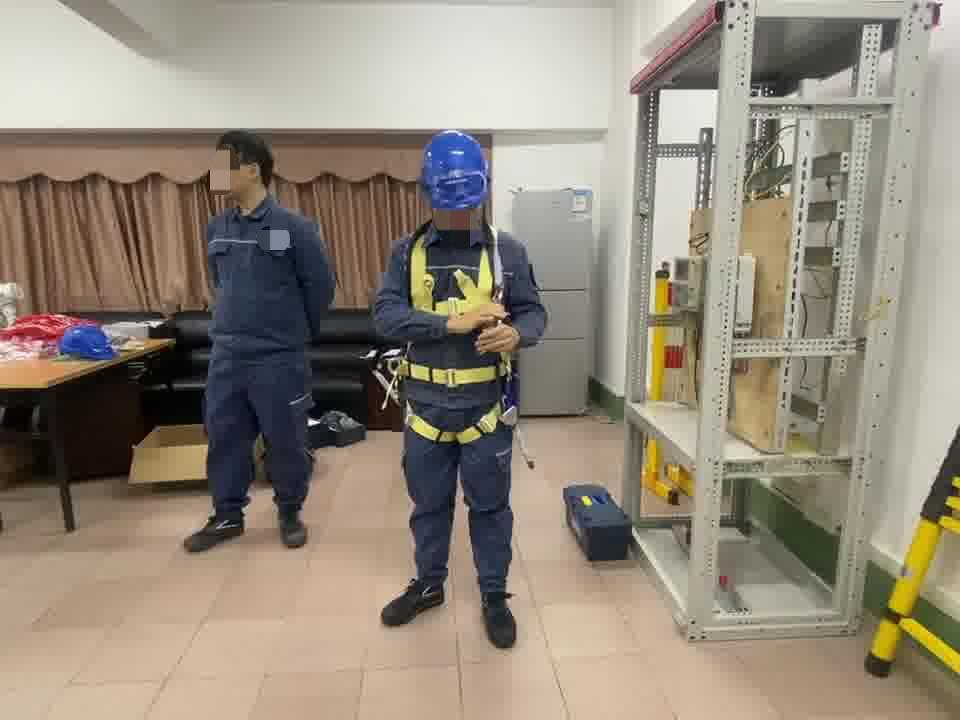halt: (421, 134, 493, 233)
noear: (244, 155, 268, 198)
unhalt: (212, 132, 277, 210)
